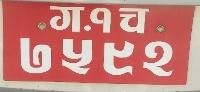1: (89, 5, 114, 34)
2: (141, 39, 175, 80)
5: (57, 35, 95, 77)
7: (15, 34, 55, 75)
9: (99, 38, 137, 78)
cha: (117, 5, 151, 36)
ga: (48, 3, 84, 35)
license-plate: (1, 0, 197, 91)
